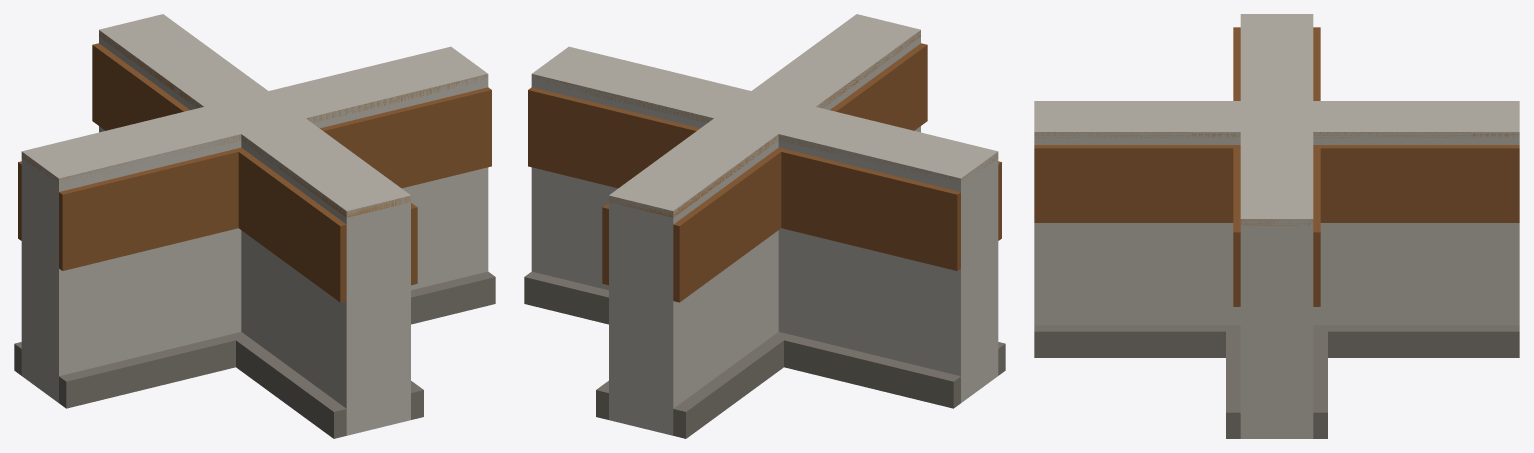
Rendered from partition-cross.glb.
3 views of the same model, side by side, from view 1: azimuth 30°, elevation 25°; view 2: azimuth 150°, elevation 25°; view 3: azimuth 270°, elevation 25° (orthographic). The views are drawn at different scales.
Visible parts, largest first — view 1: partition-cross; view 2: partition-cross; view 3: partition-cross.
Boxes of the visible parts, bbox=[...] form: partition-cross: bbox=[14, 14, 495, 438]; partition-cross: bbox=[524, 14, 1005, 438]; partition-cross: bbox=[1034, 14, 1519, 438].
Size of the model in its own units: 1 by 0.5 by 1.
1 material, 1 textured.
